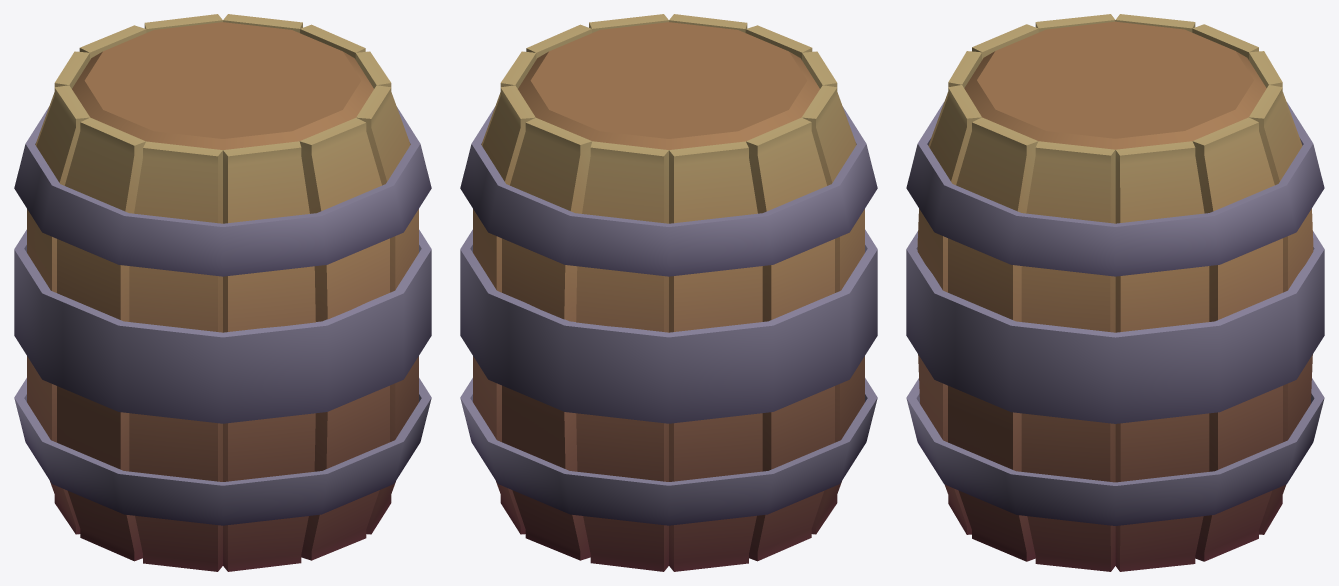
Rendered from Barrel.fbx.
3 renders of one model, left to right at view 1: azimuth 30°, elevation 25°; view 2: azimuth 150°, elevation 25°; view 3: azimuth 270°, elevation 25°, orthographic.
Parts seen in each view (by area): view 1: Cylinder.002; view 2: Cylinder.002; view 3: Cylinder.002.
Boxes of the visible parts, x1=… form: Cylinder.002: x1=14, y1=14, x2=431, y2=571; Cylinder.002: x1=460, y1=14, x2=877, y2=571; Cylinder.002: x1=906, y1=14, x2=1324, y2=571.
Size of the model in its own units: 149 by 167 by 149.
